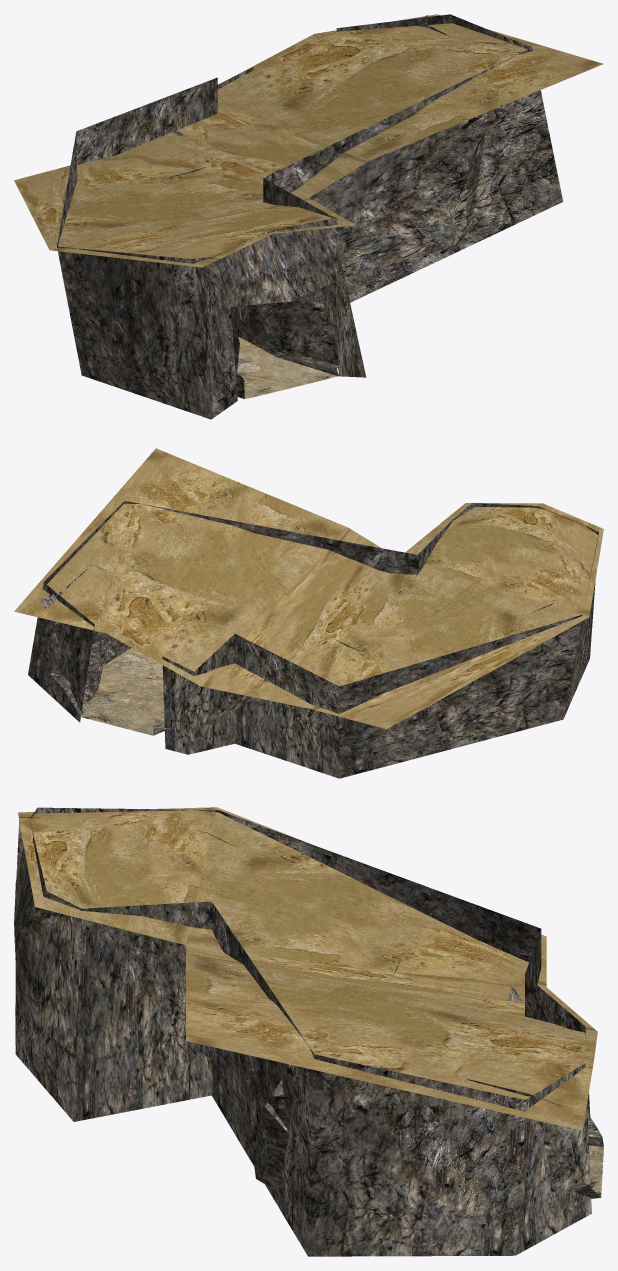
Rendered from pir_m_are_tun_cave.fbx.
The picture shows the model from 3 angles, top to bottom: view 1: azimuth 30°, elevation 25°; view 2: azimuth 150°, elevation 25°; view 3: azimuth 270°, elevation 25°; orthographic projection. The views are drawn at different scales.
Parts seen in each view (by area): view 1: BGWalls, ceiling1, Rocks_1, floor_main, floor_sides, Rocks_103; view 2: ceiling1, BGWalls, floor_main, floor_sides, Rocks_103, Rocks_119; view 3: BGWalls, ceiling1, Rocks_103, Rocks_1, floor_sides, floor_main.
Part boxes in pixels (box(x1,y1,x2,y2)): BGWalls: box(57, 14, 563, 419); ceiling1: box(14, 14, 603, 267); Rocks_1: box(231, 148, 480, 365); floor_main: box(237, 238, 458, 398); floor_sides: box(235, 226, 468, 398); Rocks_103: box(419, 15, 485, 229); ceiling1: box(14, 448, 603, 729); BGWalls: box(28, 501, 598, 778); floor_main: box(81, 648, 164, 735); floor_sides: box(50, 636, 169, 735); Rocks_103: box(39, 569, 109, 673); Rocks_119: box(169, 695, 252, 729); BGWalls: box(14, 807, 591, 1256); ceiling1: box(18, 807, 597, 1130); Rocks_103: box(261, 1078, 575, 1192); Rocks_1: box(16, 1025, 288, 1190); floor_sides: box(256, 1128, 603, 1198); floor_main: box(15, 1002, 603, 1197).
Size of the model in its own units: 18721 by 6714 by 14723.
3 materials, 3 textured.
